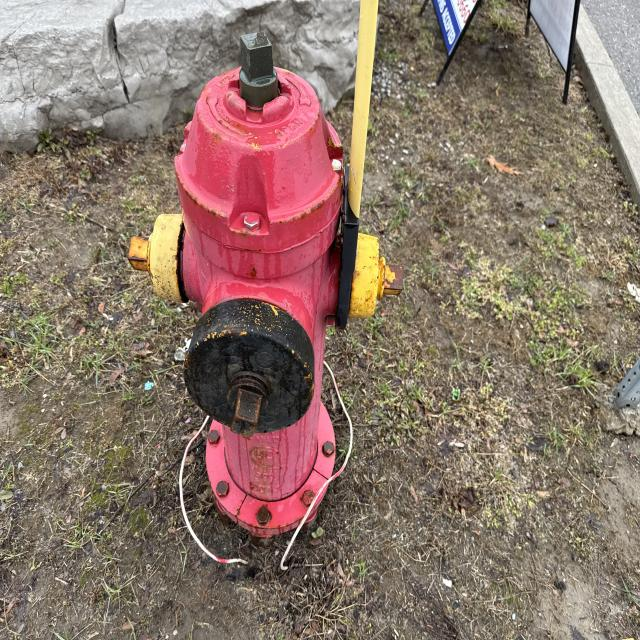Fire hydrant: (127, 31, 403, 538)
